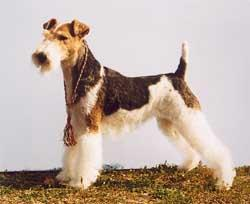wire-haired_fox_terrier: (27, 13, 239, 197)
